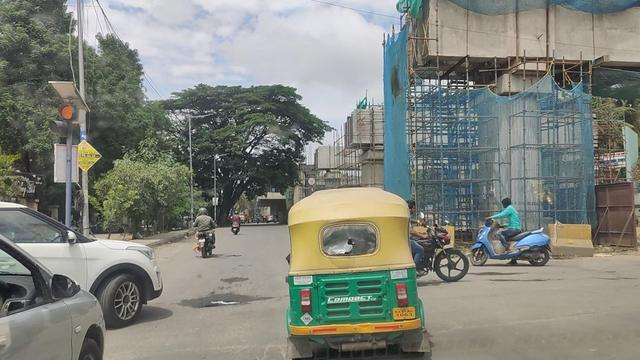LMV: (281, 187, 424, 360), (482, 197, 544, 270)
RoadDamages: (201, 280, 253, 309)
